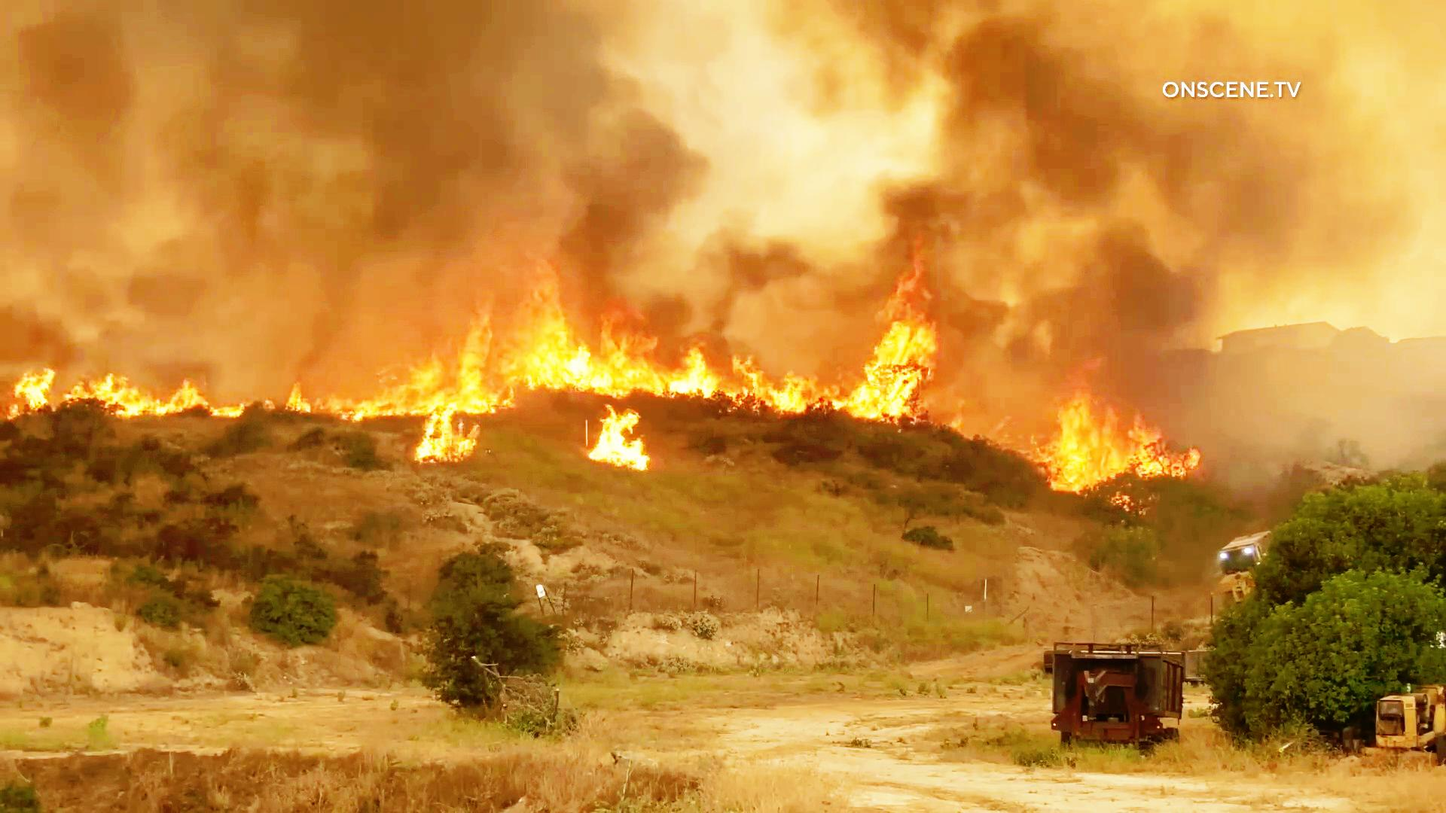fire: (350, 273, 938, 420), (330, 245, 593, 423), (1032, 369, 1195, 506)
